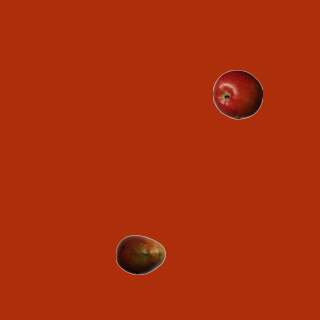Apple Braeburn: (212, 69, 262, 119)
Mango Red: (115, 229, 165, 279)
